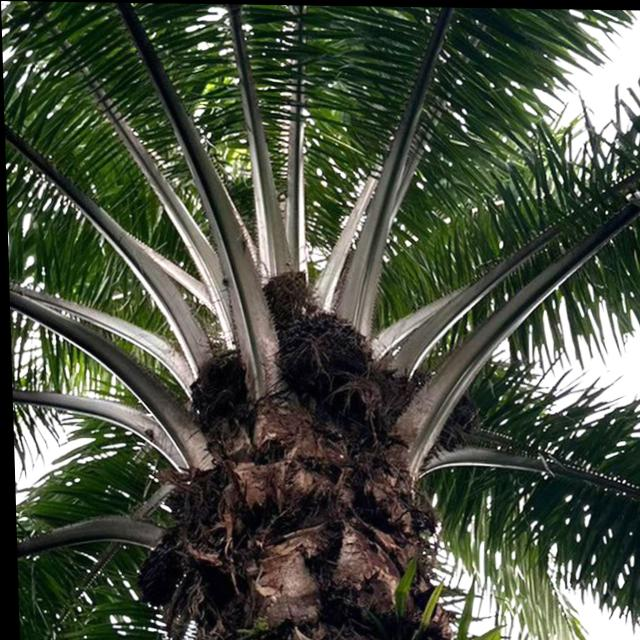unripe: (265, 301, 384, 410)
